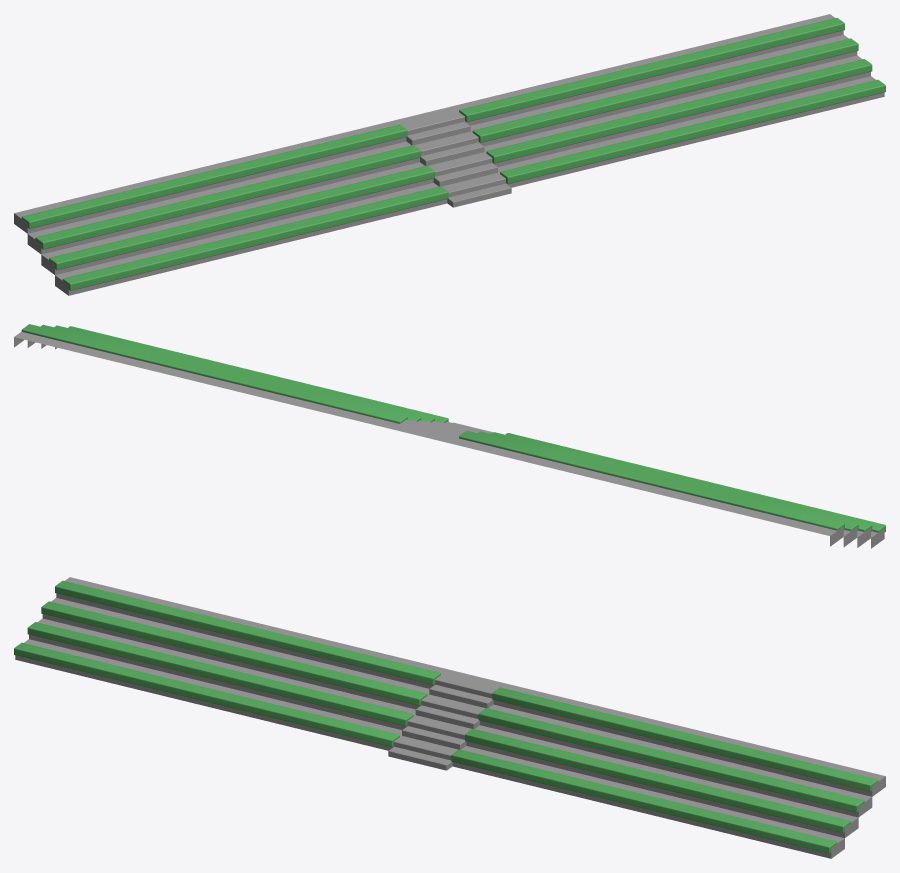
File: basket bleachers highest-poly.fbx
3 renders of one model, top to bottom at view 1: azimuth 30°, elevation 25°; view 2: azimuth 150°, elevation 25°; view 3: azimuth 330°, elevation 25°, orthographic.
Visible parts, largest first — view 1: HigherDeetz.high; view 2: HigherDeetz.high; view 3: HigherDeetz.high.
Part boxes in pixels (bbox=[...]): HigherDeetz.high: bbox=[14, 14, 885, 295]; HigherDeetz.high: bbox=[14, 324, 885, 548]; HigherDeetz.high: bbox=[14, 577, 885, 858].
Bounding box in the file's own units: 400 × 21.04 × 51.33.
